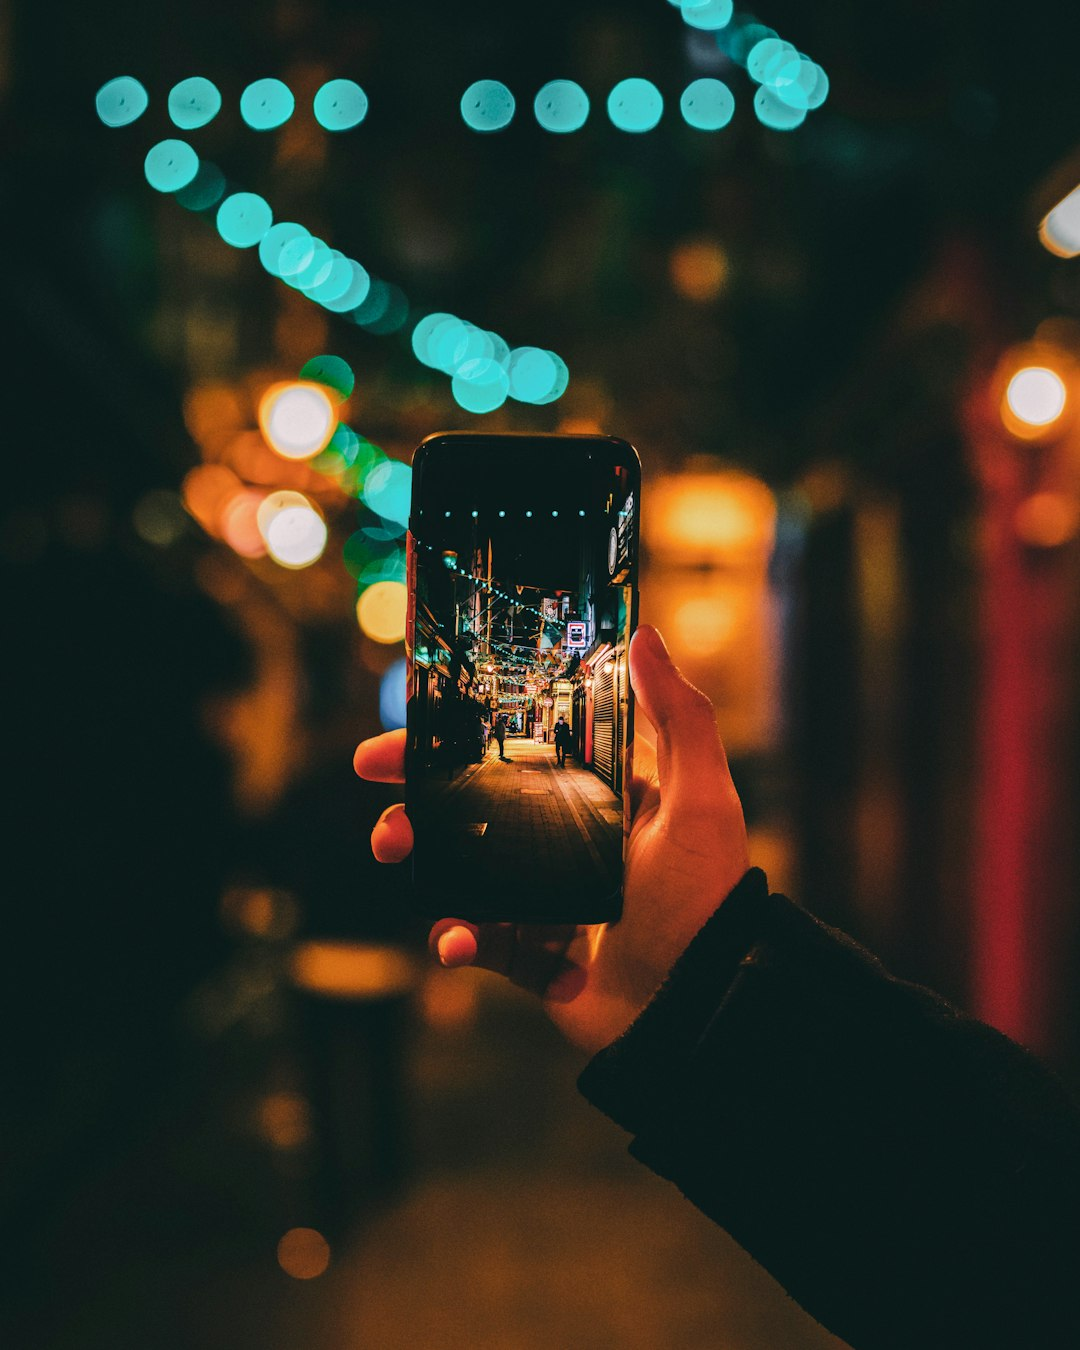phone: (404, 430, 637, 935)
